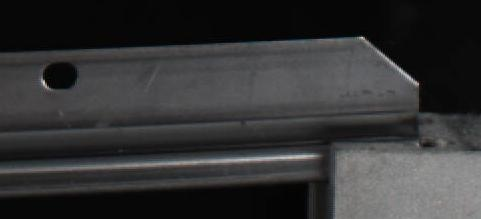cut: (287, 36, 423, 177)
holes: (40, 60, 79, 92)
